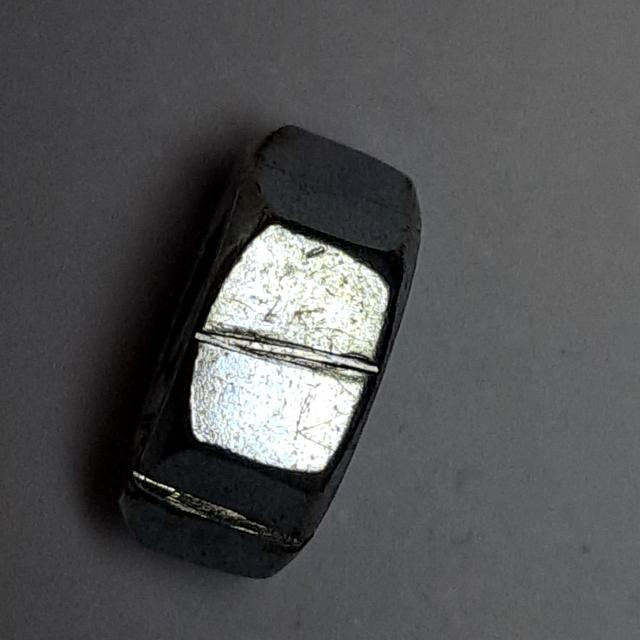Side_Scratches: (100, 106, 435, 595)
